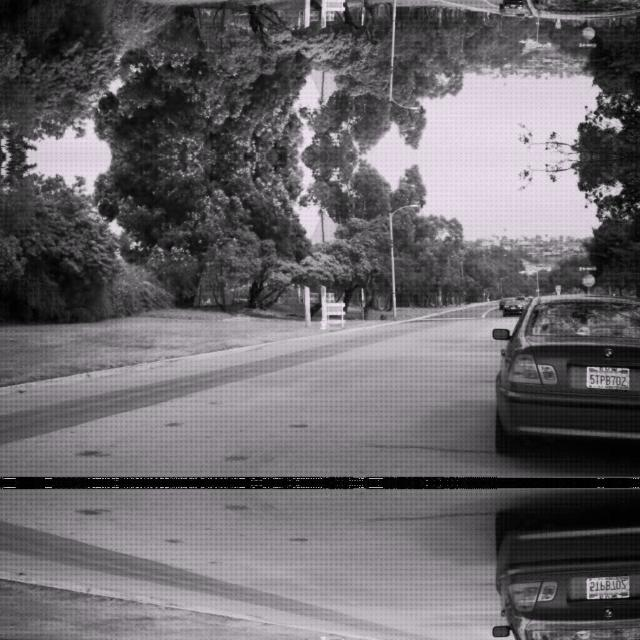stop: (580, 272, 594, 286), (580, 26, 594, 40)
